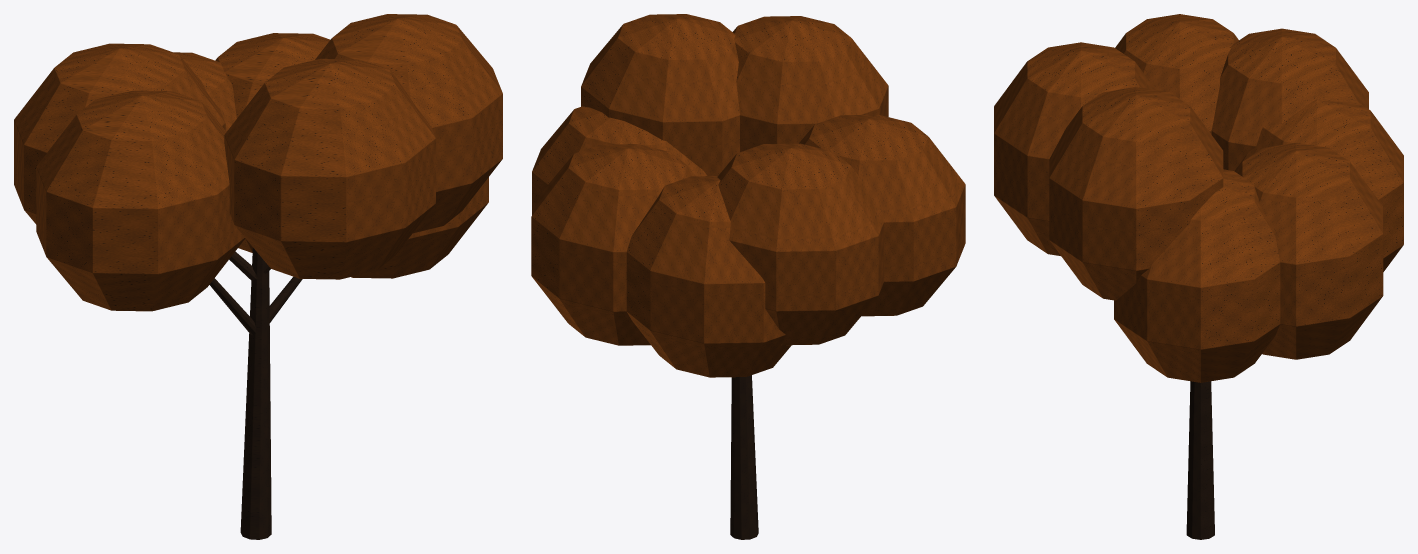
The model's file is PROP-361C75B756FE_lod1.glb.
3 renders of one model, left to right at view 1: azimuth 30°, elevation 25°; view 2: azimuth 150°, elevation 25°; view 3: azimuth 270°, elevation 25°, orthographic. The views are drawn at different scales.
Parts seen in each view (by area): view 1: leaf_crown.081, trunk.074, branch.046; view 2: leaf_crown.081, trunk.074; view 3: leaf_crown.081, trunk.074.
Part boxes in pixels (x1,y1,x2,y2): leaf_crown.081: (14,14,502,311); trunk.074: (240,247,271,539); branch.046: (209,251,302,335); leaf_crown.081: (531,14,965,377); trunk.074: (730,375,758,539); leaf_crown.081: (994,14,1403,382); trunk.074: (1186,381,1214,539).
Bounding box in the file's own units: 7.84 × 8.67 × 6.6.
2 materials, 2 textured.
